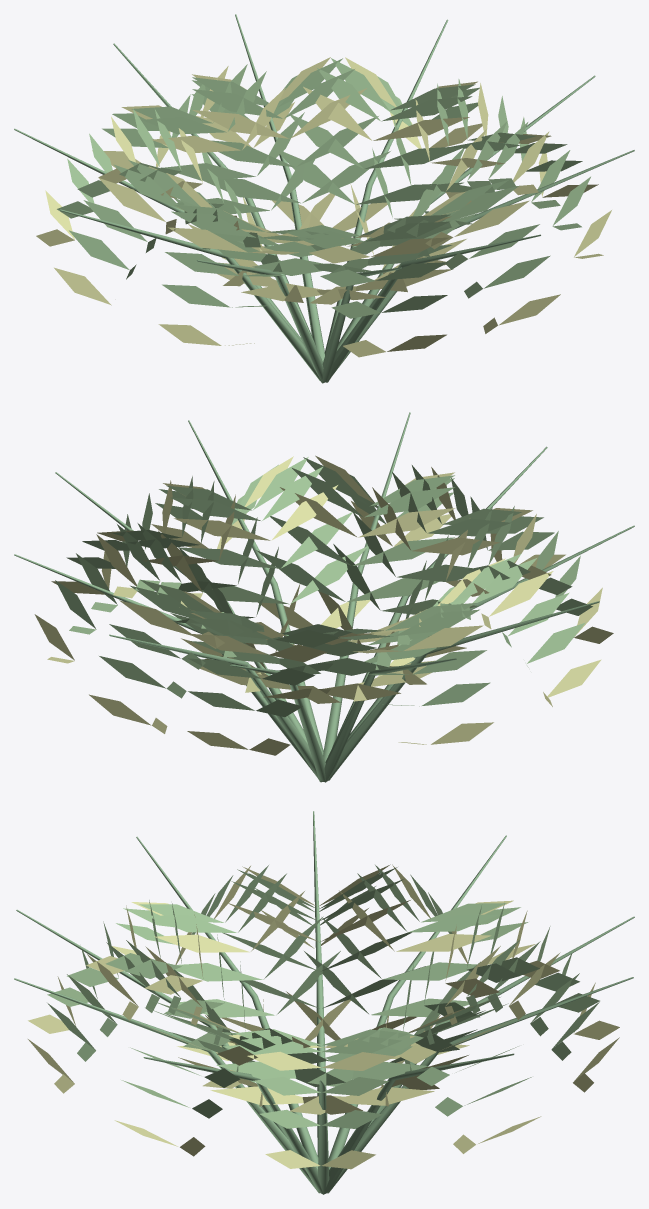
3 renders of one model, top to bottom at view 1: azimuth 30°, elevation 25°; view 2: azimuth 150°, elevation 25°; view 3: azimuth 270°, elevation 25°, orthographic. The views are drawn at different scales.
Parts seen in each view (by area): view 1: fern_fronds; view 2: fern_fronds; view 3: fern_fronds.
Boxes of the visible parts, bbox=[...] form: fern_fronds: bbox=[14, 14, 634, 383]; fern_fronds: bbox=[14, 412, 634, 782]; fern_fronds: bbox=[14, 811, 634, 1194].
Bounding box in the file's own units: 1.52 × 0.6508 × 1.48.
